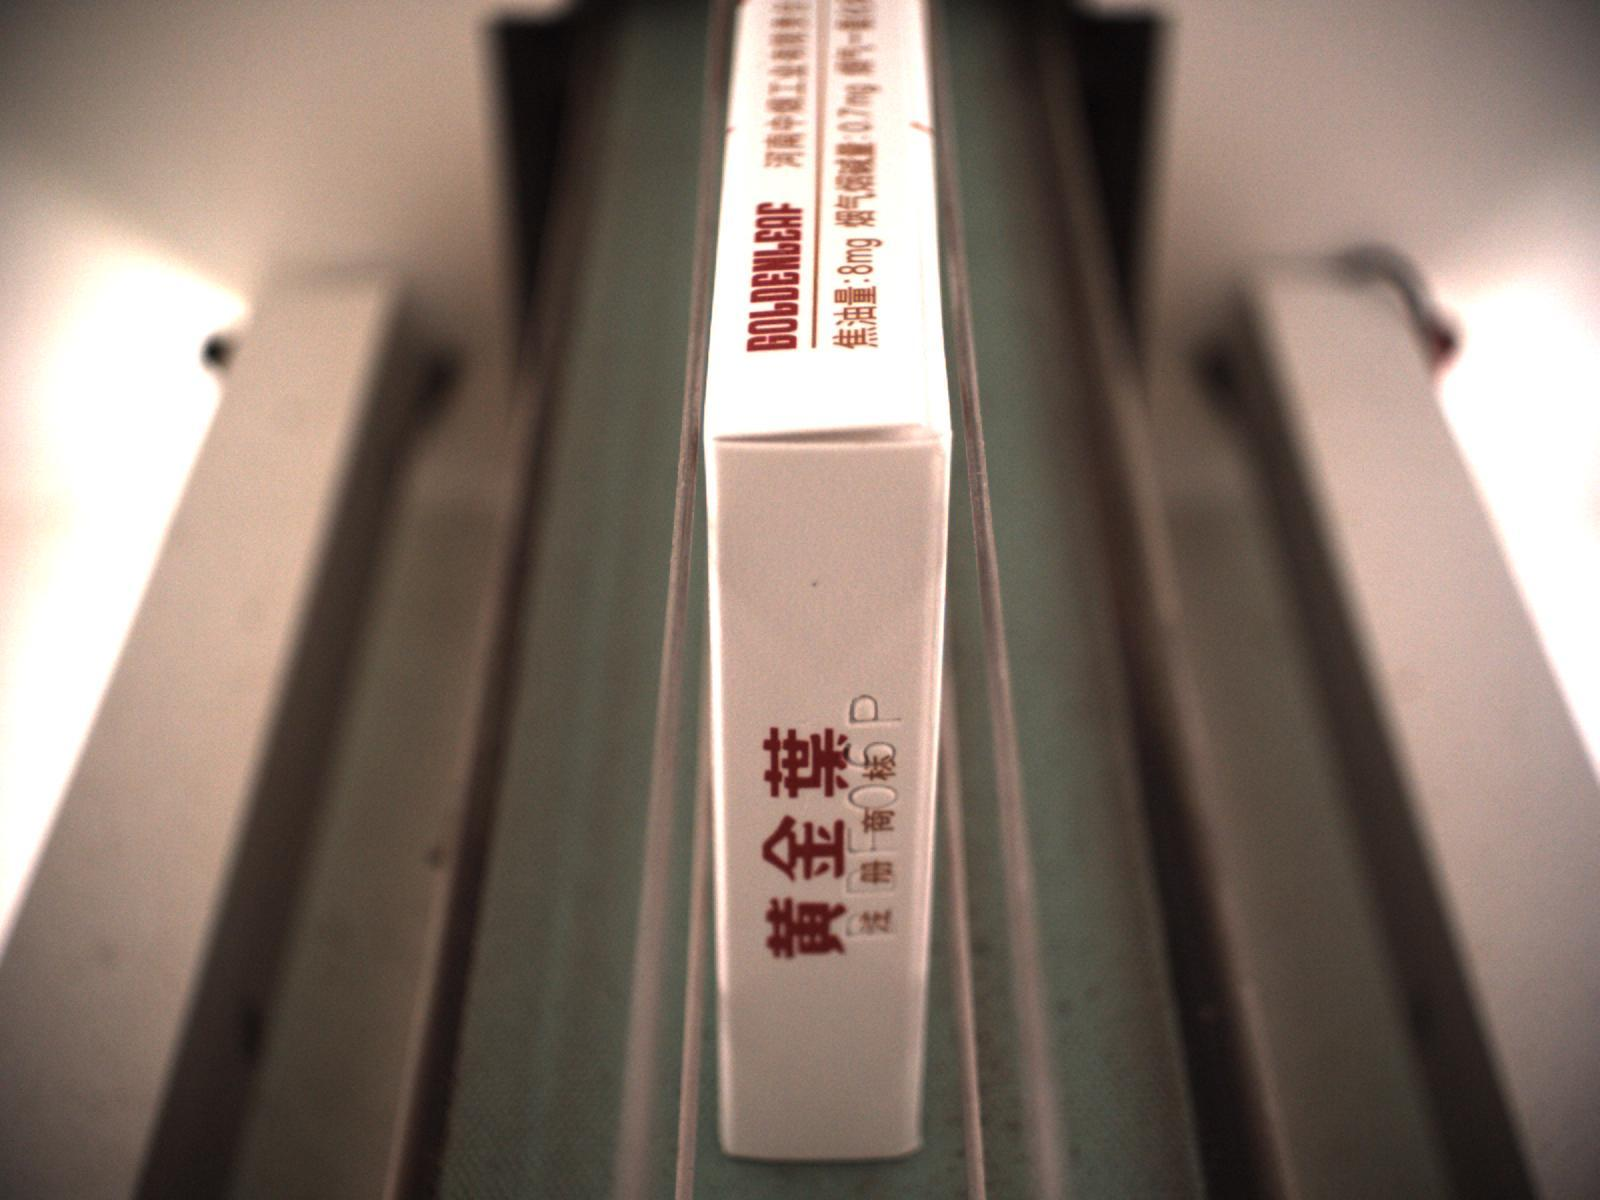bottomUpwarp_upper_3: (708, 416, 947, 453)
dirtySpot: (809, 579, 821, 587)
